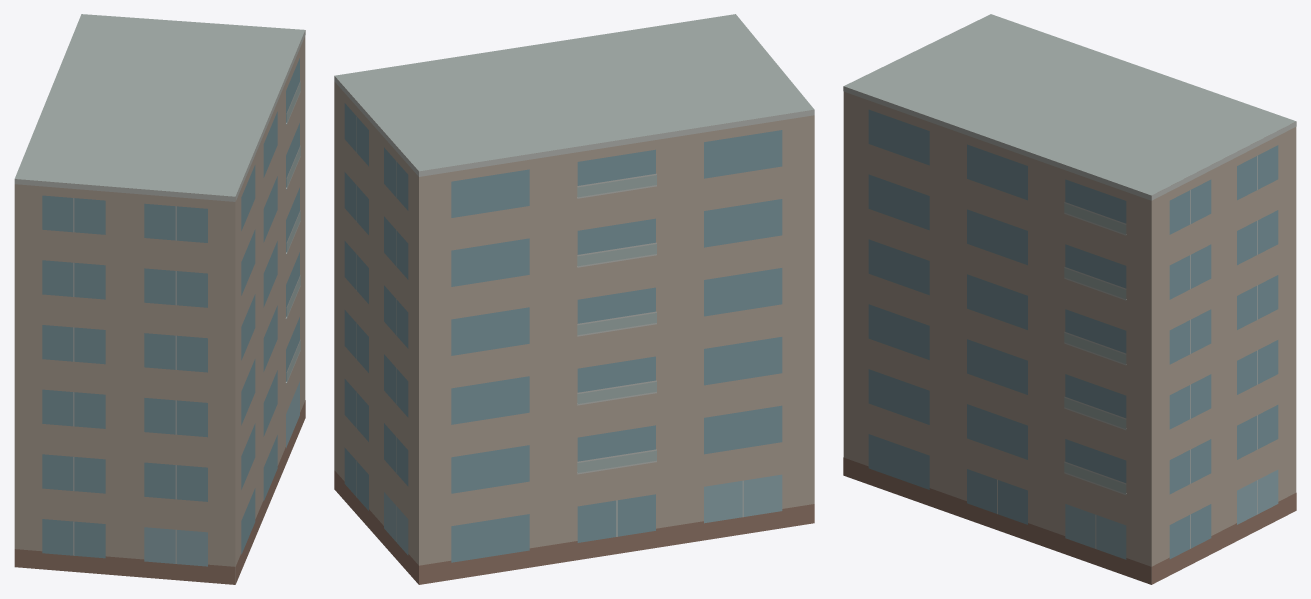
The model's file is survey-upis-32671689.glb.
3 renders of one model, left to right at view 1: azimuth 30°, elevation 25°; view 2: azimuth 150°, elevation 25°; view 3: azimuth 270°, elevation 25°, orthographic. The views are drawn at different scales.
Parts seen in each view (by area): view 1: survey-upis-32671689.tmp; view 2: survey-upis-32671689.tmp; view 3: survey-upis-32671689.tmp.
Part boxes in pixels (x1,y1,x2,y2): survey-upis-32671689.tmp: [14, 14, 305, 584]; survey-upis-32671689.tmp: [334, 14, 814, 584]; survey-upis-32671689.tmp: [843, 14, 1296, 584].
Size of the model in its own units: 18 by 18 by 18.98.
